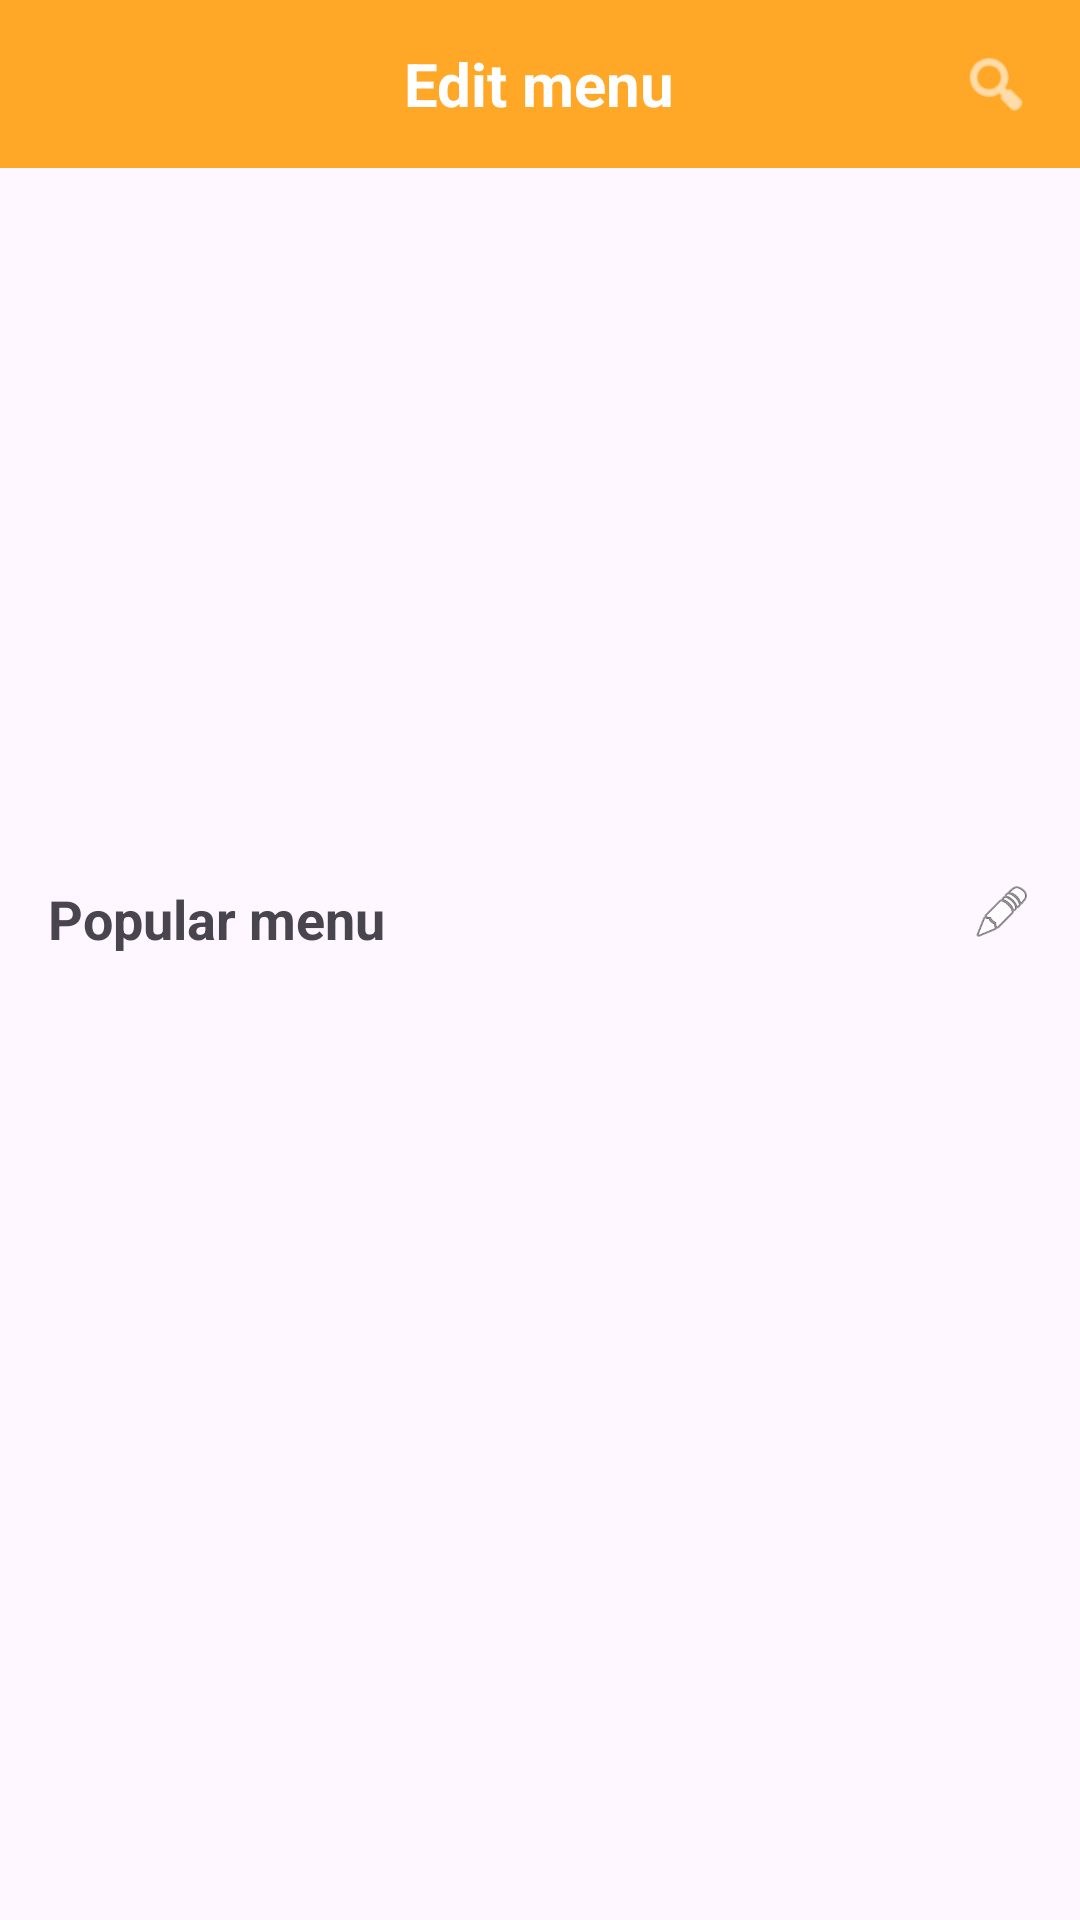

Named icons in this screenshot (1080px×1920px) and their bounding boxes, detection(x1, y1, x2, y2):
edit: detection(976, 886, 1027, 937)
search: detection(969, 58, 1023, 111)
